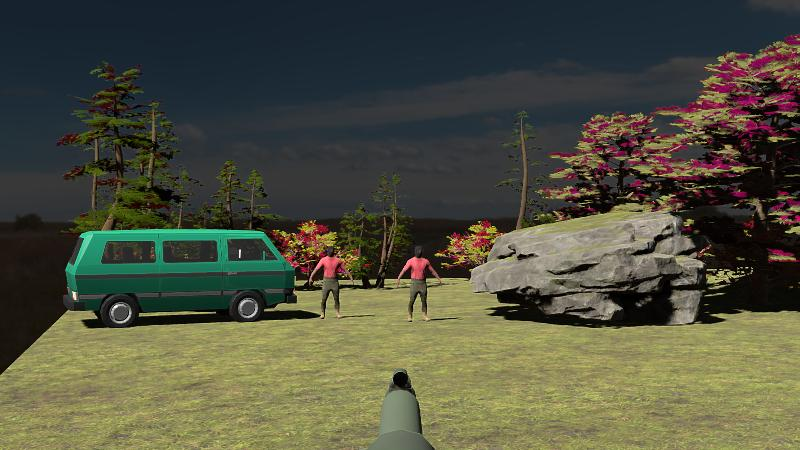Human: (397, 245, 441, 322), (398, 245, 442, 322), (311, 246, 352, 319)
car: (64, 228, 296, 328)
